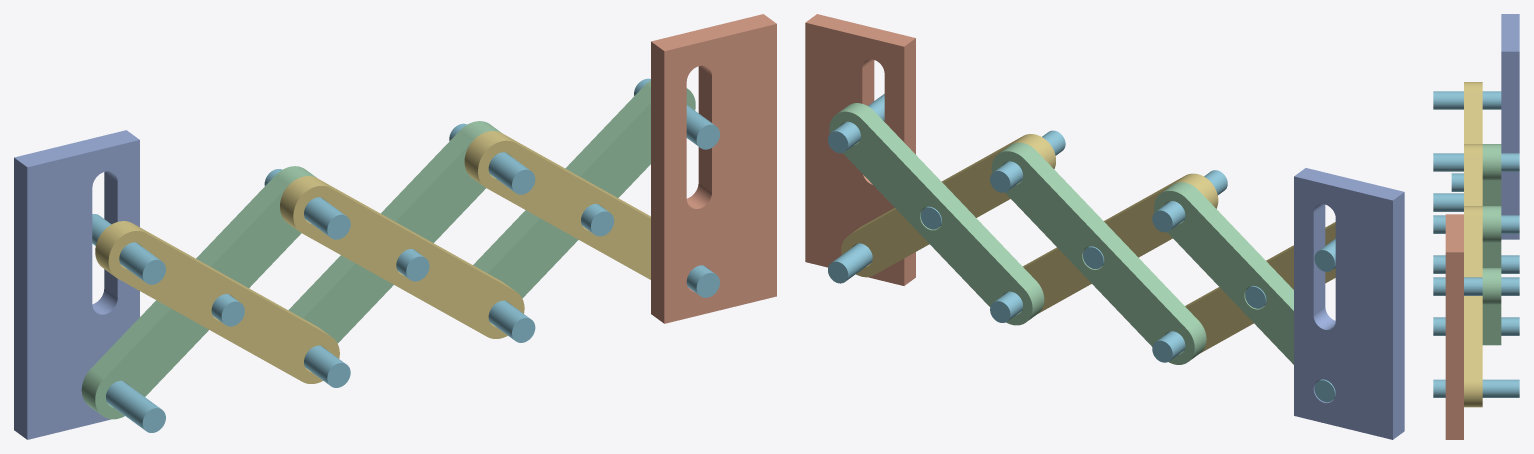
File: lazy_tongs_demo.glb
3 views of the same model, side by side, from view 1: azimuth 30°, elevation 25°; view 2: azimuth 150°, elevation 25°; view 3: azimuth 270°, elevation 25° (orthographic). The views are drawn at different scales.
Parts seen in each view (by area): view 1: output_yoke, frame, bar_0, bar_3, bar_1, bar_2, bar_4, bar_5, pin_0, pin_1, pin_5, pin_3 (+7 smaller); view 2: frame, output_yoke, bar_2, bar_4, bar_0, bar_5, bar_3, bar_1, pin_6, pin_3, pin_5, pin_7 (+2 smaller); view 3: output_yoke, frame, bar_5, bar_4, bar_0, bar_2, bar_1, bar_3, pin_1, pin_7, pin_6, pin_3 (+5 smaller).
Part boxes in pixels (x1,y1,x2,y2): output_yoke: (651, 14, 776, 323); frame: (14, 130, 139, 439); bar_0: (81, 166, 316, 419); bar_3: (280, 176, 524, 338); bar_1: (95, 221, 339, 383); bar_2: (288, 121, 501, 343); bar_4: (473, 80, 695, 298); bar_5: (464, 131, 650, 279); pin_0: (106, 380, 165, 432); pin_1: (92, 214, 165, 284); pin_5: (449, 123, 535, 194); pin_3: (264, 169, 350, 239); frame: (1294, 168, 1404, 439); output_yoke: (805, 14, 915, 285); bar_2: (991, 142, 1206, 364); bar_4: (829, 103, 1044, 325); bar_0: (1154, 182, 1293, 364); bar_5: (841, 134, 1055, 277); bar_3: (1023, 173, 1218, 313); bar_1: (1185, 222, 1335, 353); pin_6: (828, 243, 872, 283); pin_3: (1152, 170, 1227, 232); pin_5: (990, 130, 1065, 192); pin_7: (828, 94, 884, 153); output_yoke: (1445, 214, 1463, 439); frame: (1501, 14, 1519, 239); bar_5: (1464, 206, 1482, 407); bar_4: (1482, 268, 1501, 345); bar_0: (1482, 144, 1501, 205); bar_2: (1482, 206, 1501, 267); bar_1: (1464, 82, 1482, 143); bar_3: (1464, 144, 1482, 205); pin_1: (1433, 91, 1501, 109); pin_7: (1433, 277, 1519, 295); pin_6: (1433, 379, 1519, 397); pin_3: (1433, 153, 1519, 171).
Size of the model in its own units: 91.4 by 33.57 by 14.
